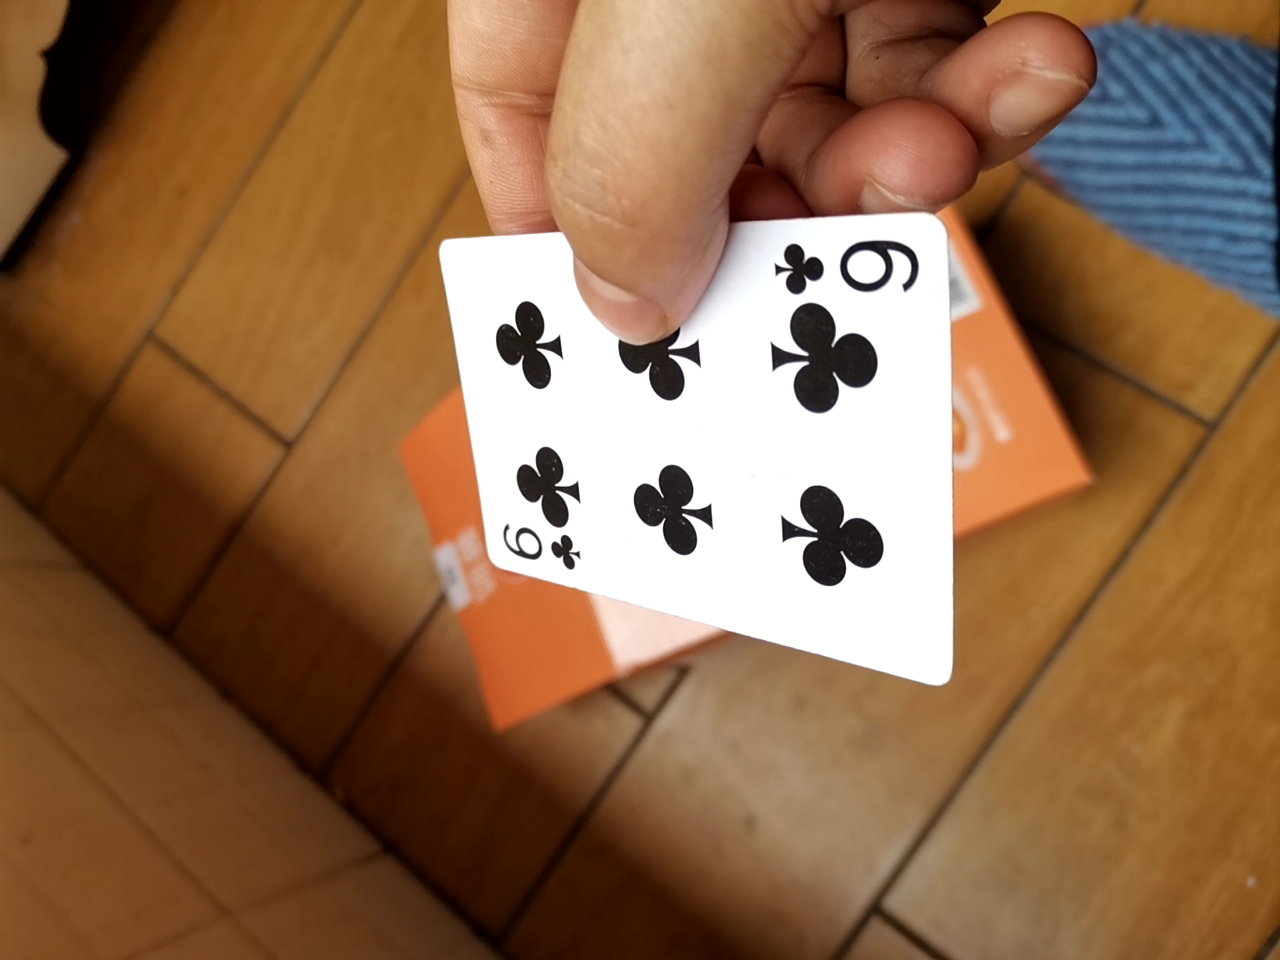mh 6: (419, 203, 970, 701)
